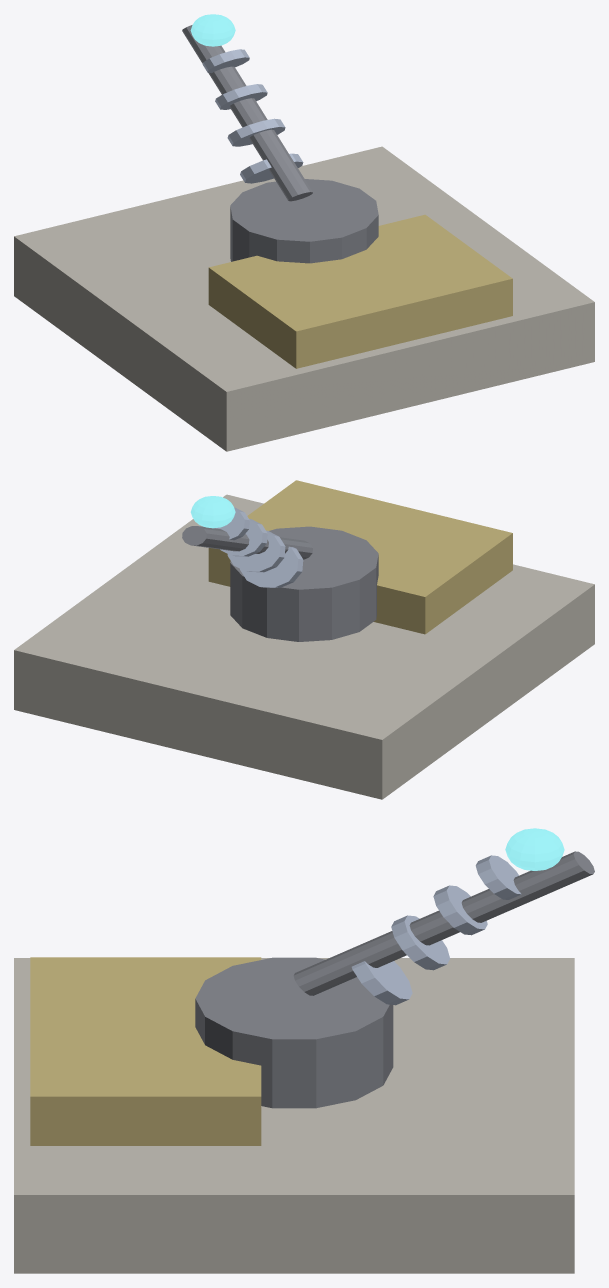
File: nx_emp_cannon.glb
The picture shows the model from 3 angles, top to bottom: view 1: azimuth 30°, elevation 25°; view 2: azimuth 150°, elevation 25°; view 3: azimuth 270°, elevation 25°; orthographic projection. The views are drawn at different scales.
Visible parts, largest first — view 1: model; view 2: model; view 3: model.
Part boxes in pixels (left/top/right/bottom): model: left=14, top=14, right=594, bottom=451; model: left=14, top=480, right=594, bottom=799; model: left=14, top=828, right=594, bottom=1273.
Bounding box in the file's own units: 1.83 × 1.17 × 1.9.
